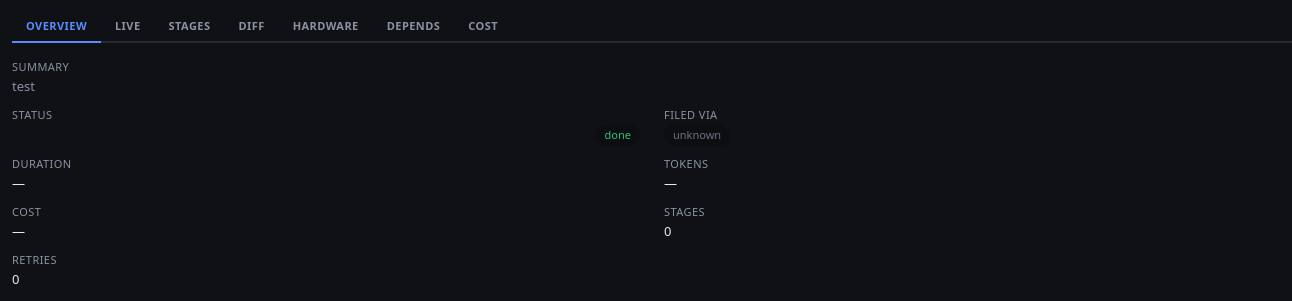
Test: JobDetailTabs tab bar › renders the COST tab button and clicking it switches active tab and shows JobCostTab content
Click the button "COST" at (483, 27), box [454,12,512,42]
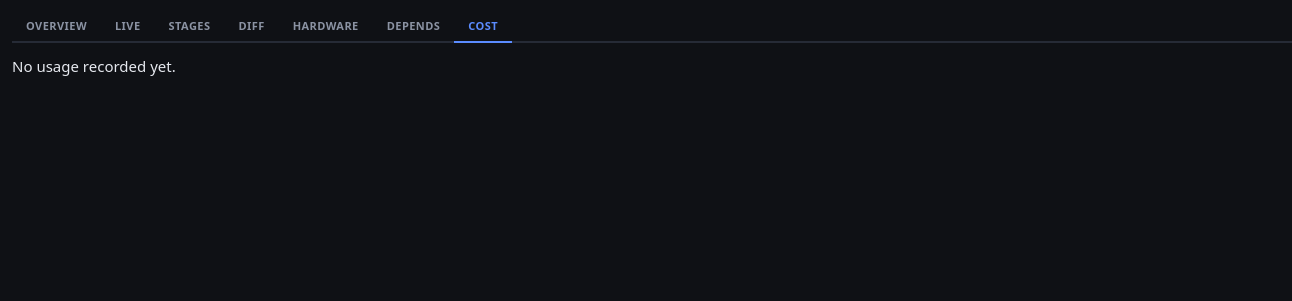
Expected: the text "No usage recorded yet." is shown, [12,56,176,76]
